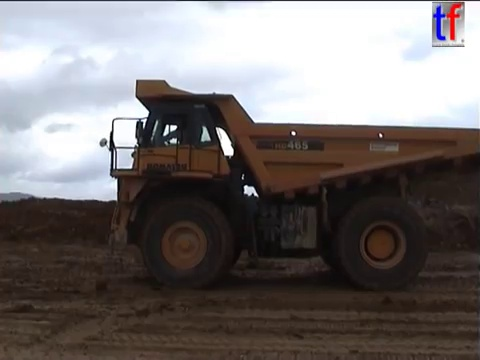truck: (97, 75, 480, 293)
